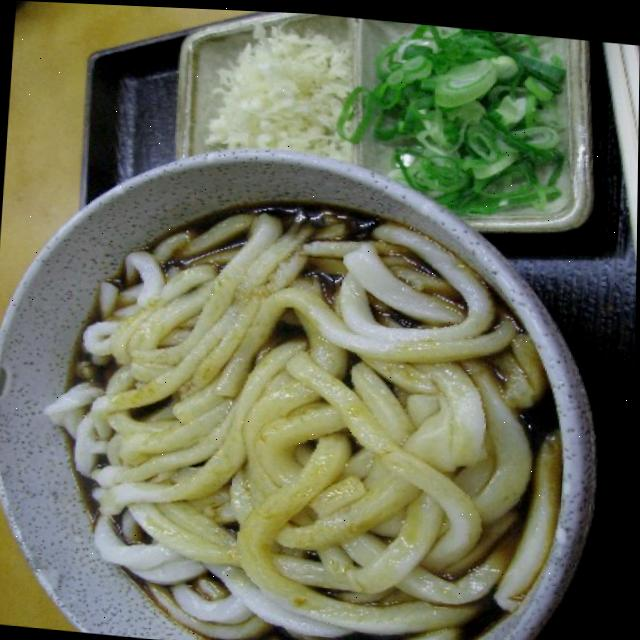面条主食: (0, 116, 639, 603)
